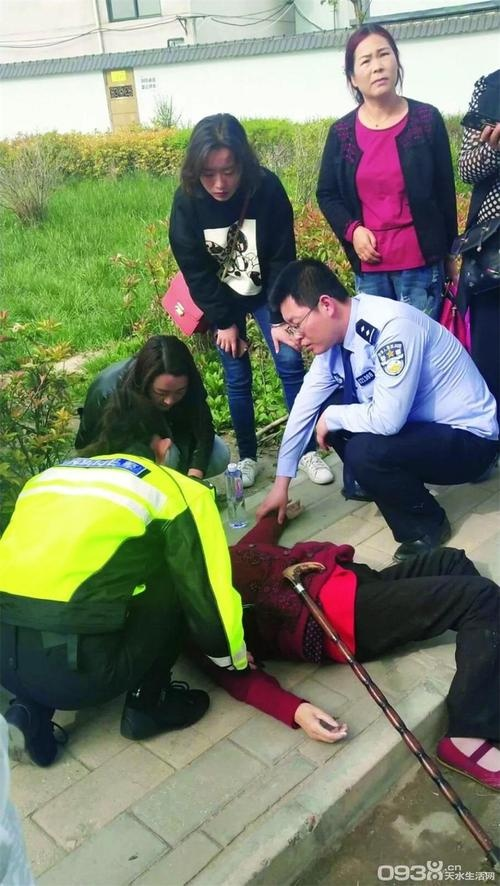falling: (164, 490, 495, 779)
